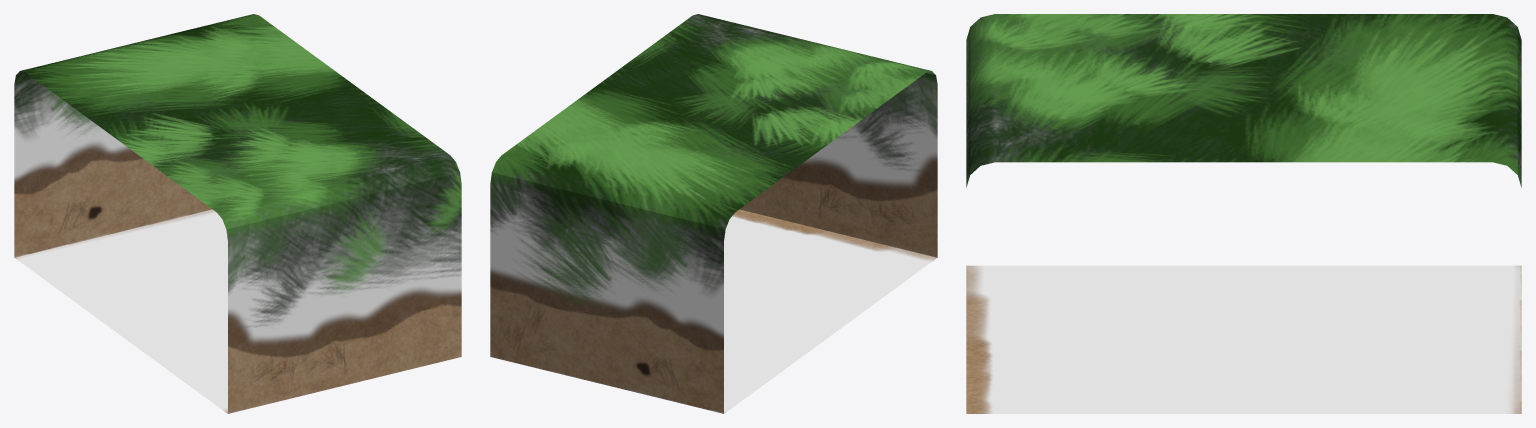
The model's file is longPlatformMiddle.fbx.
The picture shows the model from 3 angles, left to right: view 1: azimuth 30°, elevation 25°; view 2: azimuth 150°, elevation 25°; view 3: azimuth 270°, elevation 25°; orthographic projection. The views are drawn at different scales.
Parts seen in each view (by area): view 1: longPlatformMiddle; view 2: longPlatformMiddle; view 3: longPlatformMiddle.
Part boxes in pixels (x1,y1,x2,y2): longPlatformMiddle: (14, 14, 461, 413); longPlatformMiddle: (490, 14, 937, 413); longPlatformMiddle: (966, 14, 1521, 413).
Size of the model in its own units: 31.62 by 25 by 50.
Materials: 1 (1 with a texture image).
